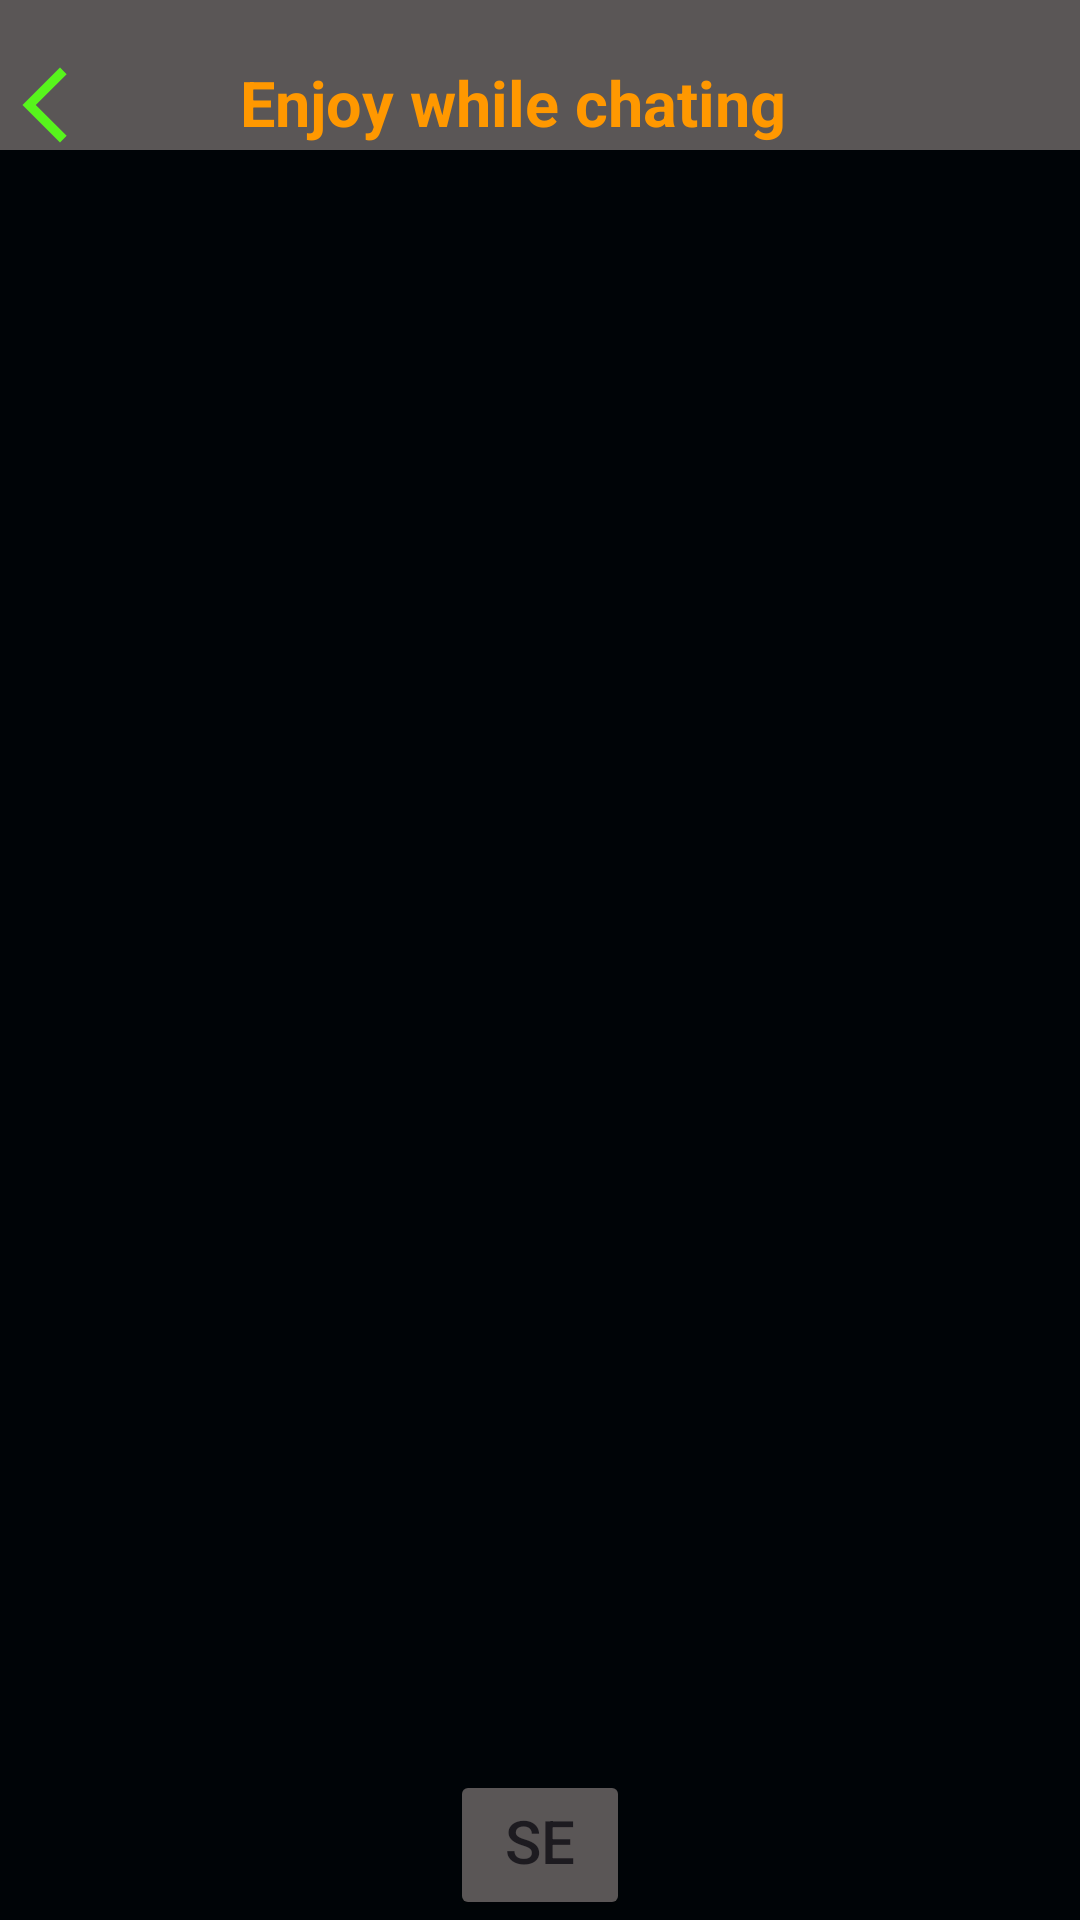

Named icons in this screenshot (1080x1920) and their centers, (x,y):
back: (45,105)
